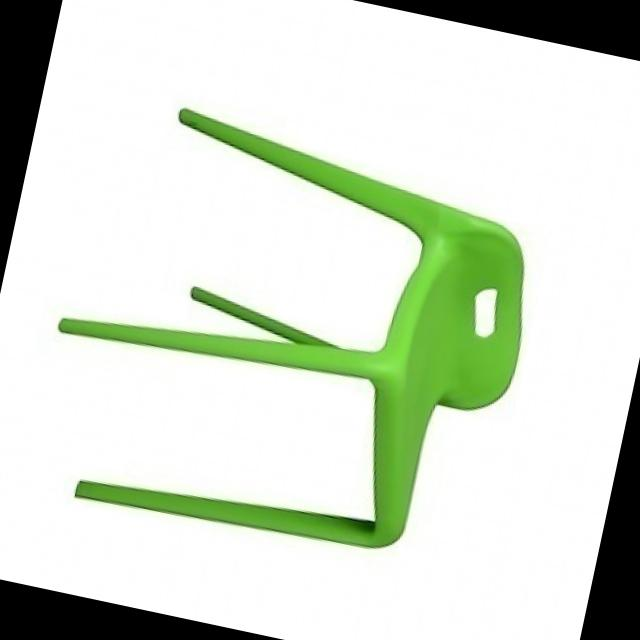Chair: (14, 85, 560, 590)
